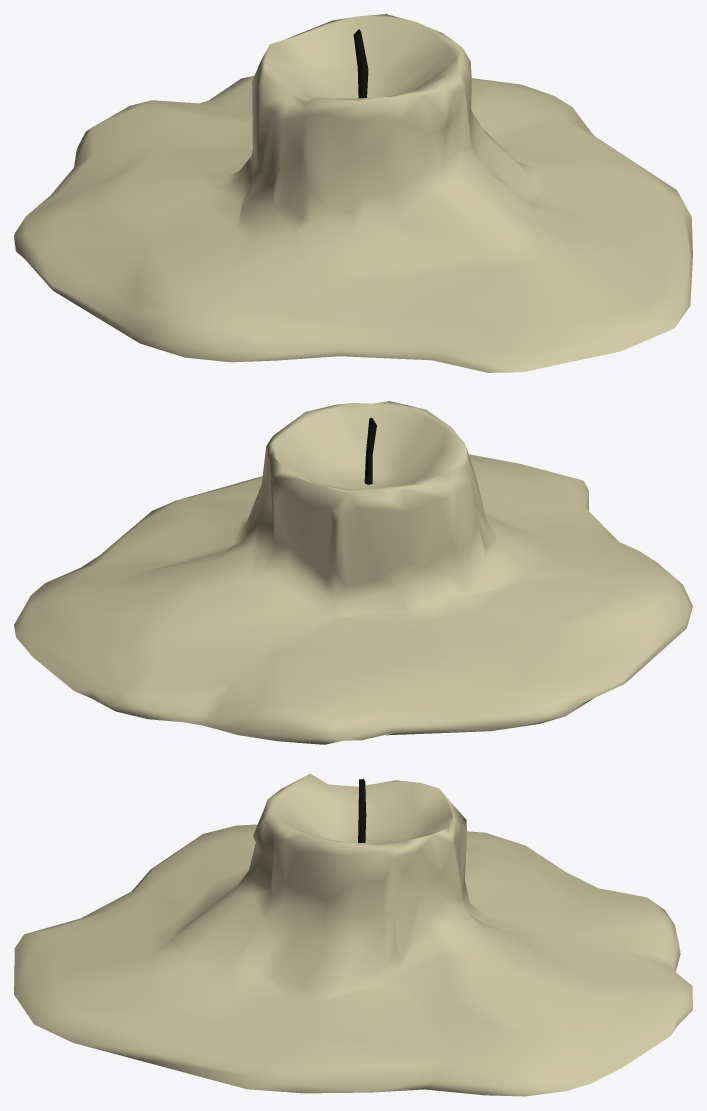
The model's file is SM_Candle_Used_C.fbx.
3 views of the same model, one above another, from view 1: azimuth 30°, elevation 25°; view 2: azimuth 150°, elevation 25°; view 3: azimuth 270°, elevation 25° (orthographic). The views are drawn at different scales.
Visible parts, largest first — view 1: SM_Candle_Used_C_LOD0; view 2: SM_Candle_Used_C_LOD0; view 3: SM_Candle_Used_C_LOD0.
Part boxes in pixels (x1,y1,x2,y2): SM_Candle_Used_C_LOD0: [14, 14, 692, 372]; SM_Candle_Used_C_LOD0: [14, 401, 692, 744]; SM_Candle_Used_C_LOD0: [14, 773, 692, 1096].
Bounding box in the file's own units: 9.62 × 10.74 × 3.34.
Materials: 1 (1 with a texture image).
